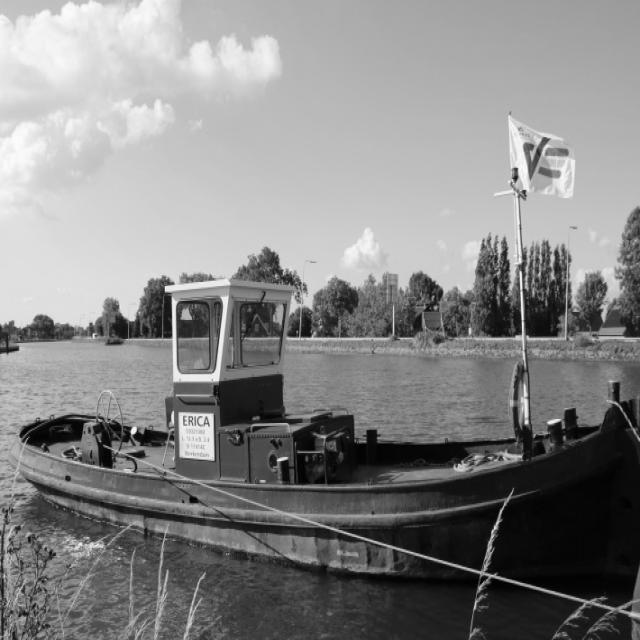tugboat: (3, 246, 640, 639)
